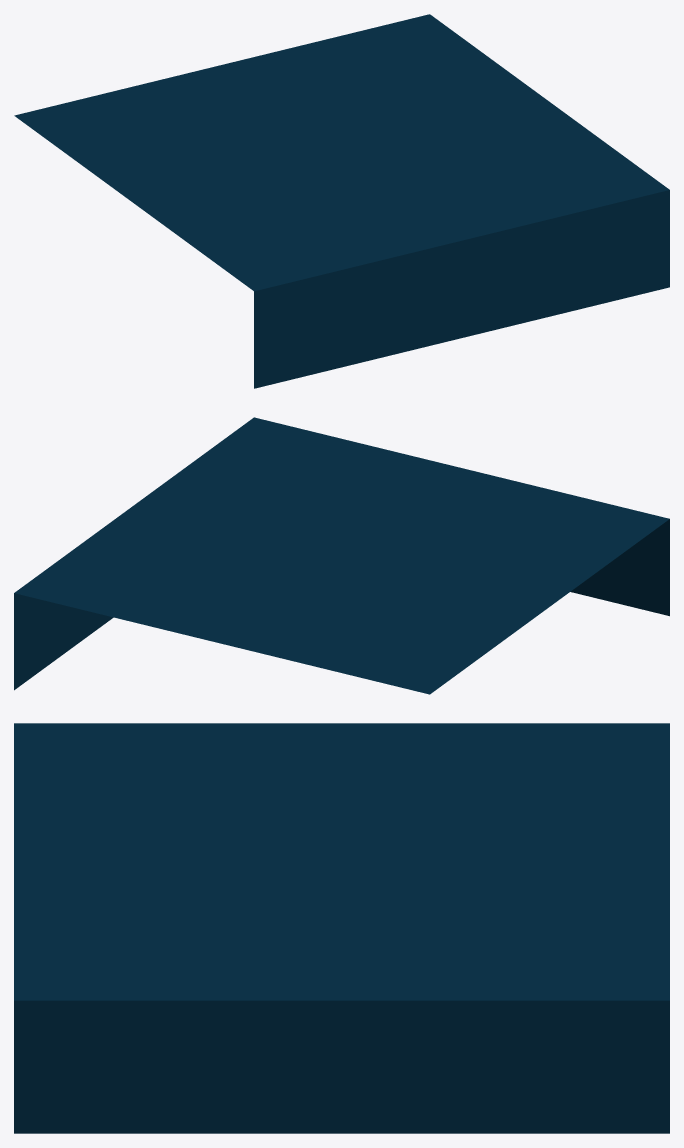
Rendered from tile.fbx.
3 renders of one model, top to bottom at view 1: azimuth 30°, elevation 25°; view 2: azimuth 150°, elevation 25°; view 3: azimuth 270°, elevation 25°, orthographic. The views are drawn at different scales.
Visible parts, largest first — view 1: floor_001; view 2: floor_001; view 3: floor_001.
Boxes of the visible parts, x1,y1,x2,y2 form: floor_001: (14,14,669,388); floor_001: (14,417,669,694); floor_001: (14,723,669,1133).
Size of the model in its own units: 2 by 0.4478 by 2.
